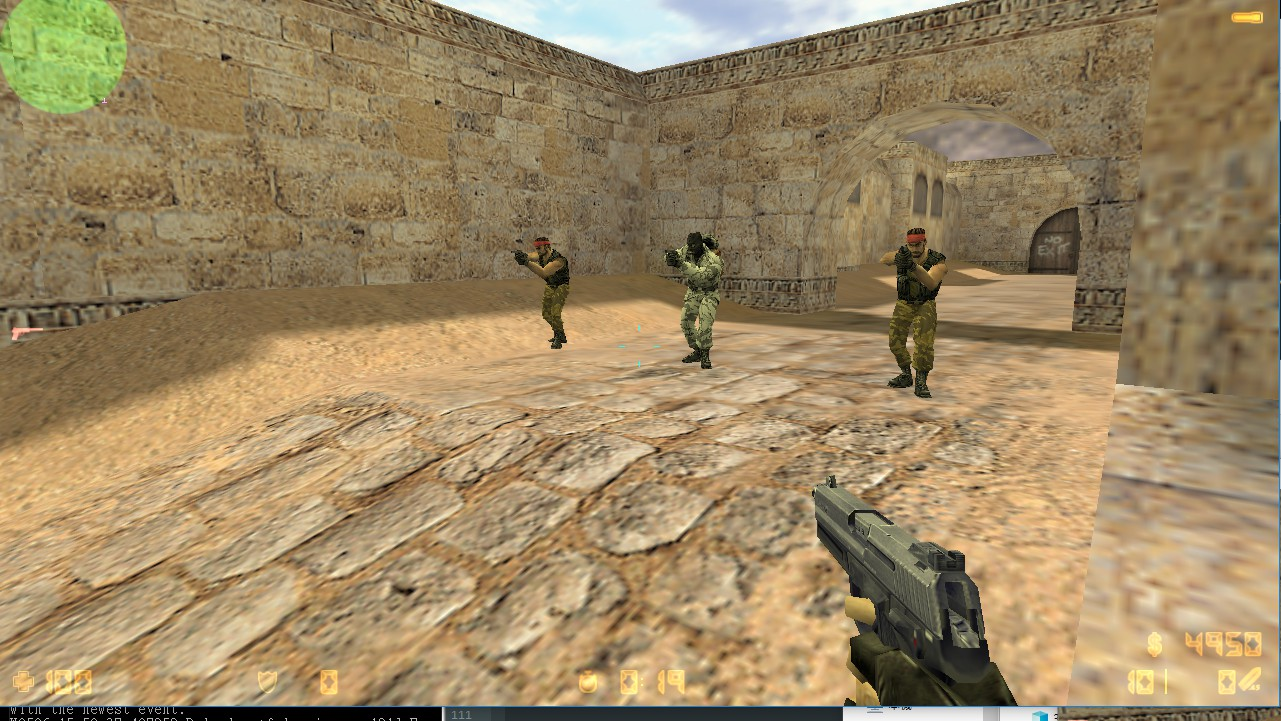person: (878, 218, 949, 405), (661, 225, 728, 377), (508, 226, 579, 354)
